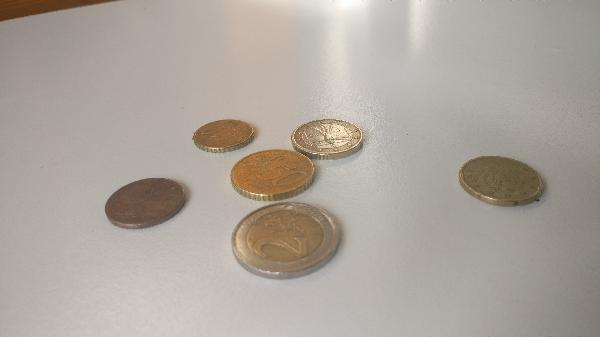Fifty Cent: (232, 149, 313, 202)
Five Cent: (104, 177, 186, 230)
One Euro: (291, 117, 363, 159)
Ten Cent: (193, 115, 256, 153)
Twenty Cent: (455, 154, 550, 210)
Two Euro: (233, 201, 341, 279)
